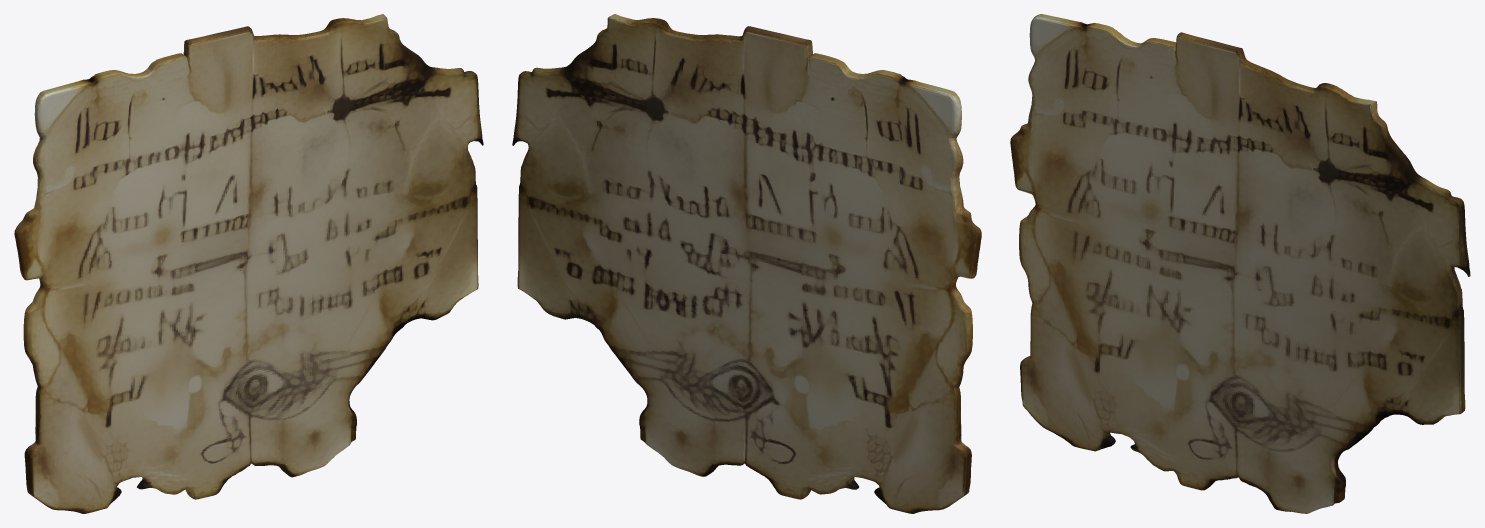
The model's file is letter_ch1.glb.
The picture shows the model from 3 angles, left to right: view 1: azimuth 30°, elevation 25°; view 2: azimuth 150°, elevation 25°; view 3: azimuth 330°, elevation 25°; orthographic projection. The views are drawn at different scales.
Parts seen in each view (by area): view 1: world; view 2: world; view 3: world.
Boxes of the visible parts, left/top/right/bottom form: world: left=14, top=14, right=483, bottom=513; world: left=512, top=14, right=981, bottom=513; world: left=1010, top=14, right=1470, bottom=513.
Bounding box in the file's own units: 0.9881 × 0.9257 × 0.0243.
Materials: 1 (1 with a texture image).
